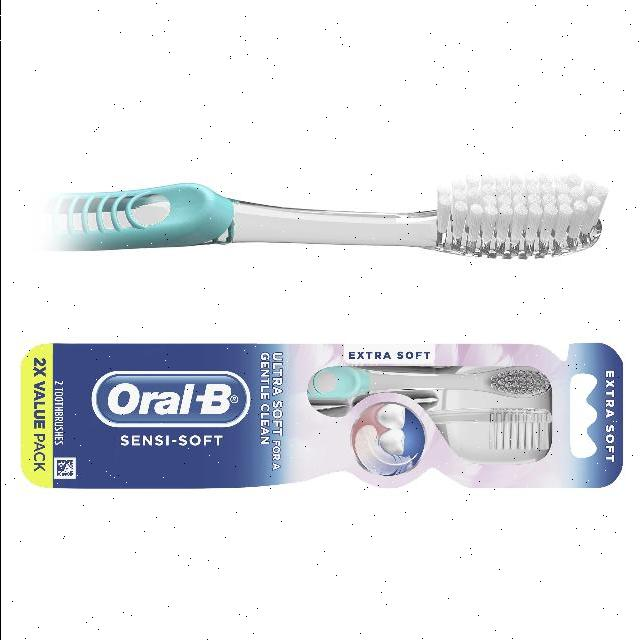toothbrush: (19, 143, 625, 293)
